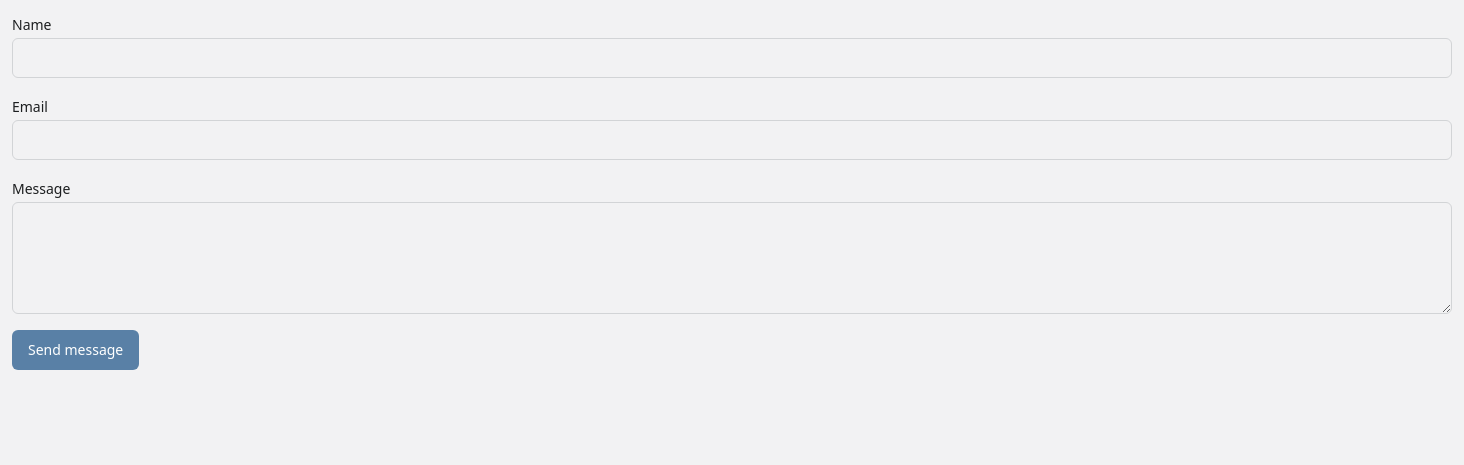
Scenario: ContactForm › shows accessible validation errors and does not submit
Click the button "Send message": (76, 350) [12,330,139,370]
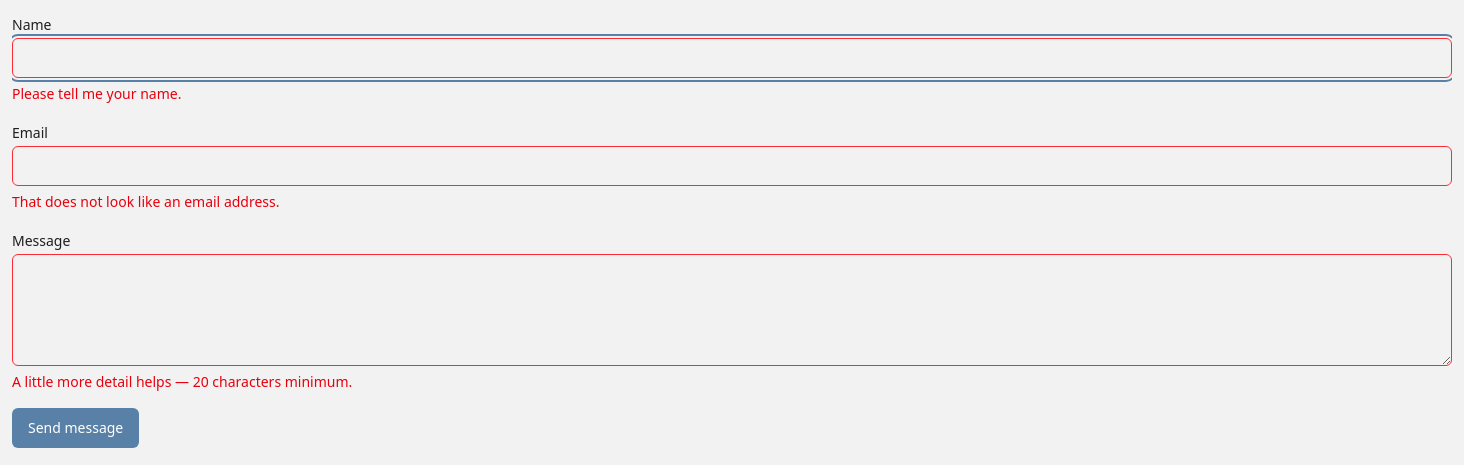
Result: the text "Please tell me your name." is shown at [12,84,182,103]
